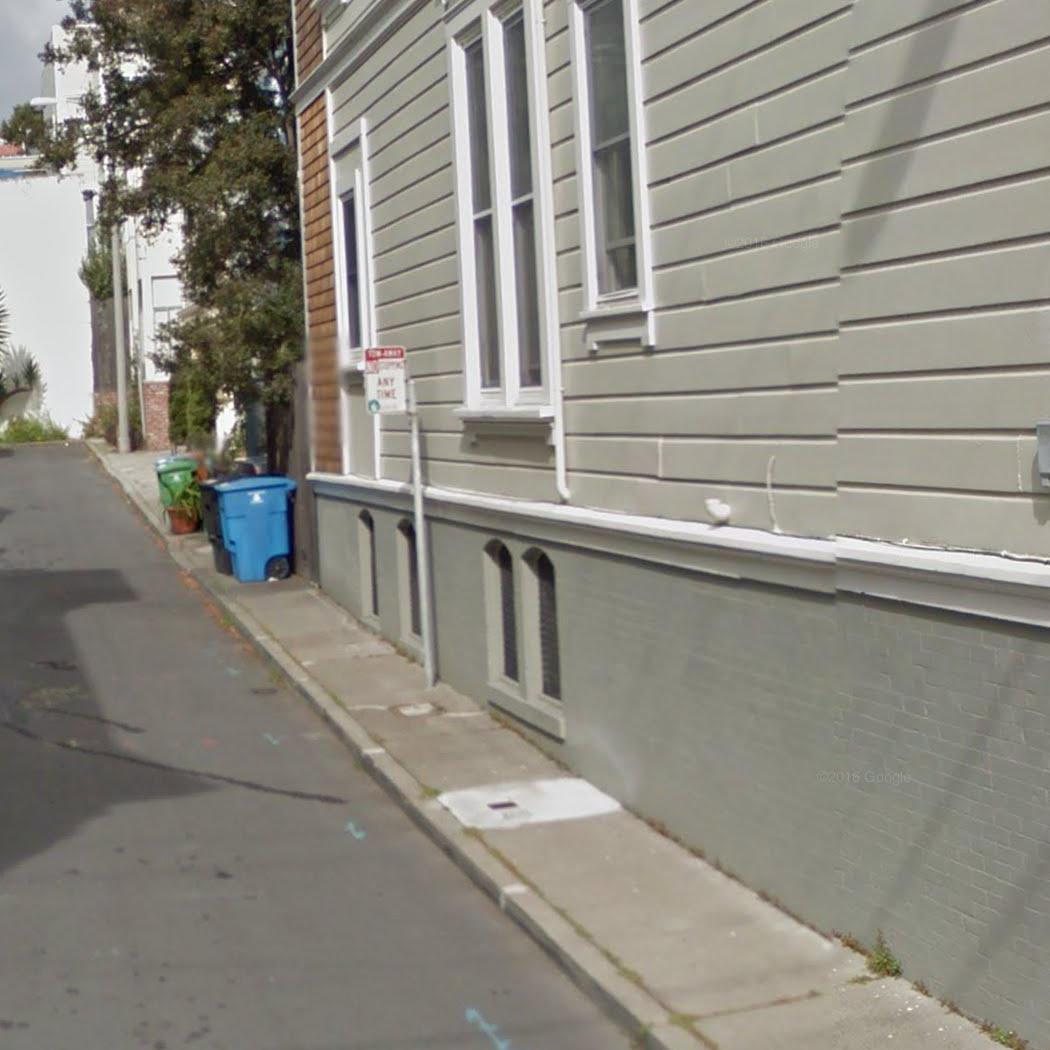No Parking Anytime: (361, 345, 410, 417)
